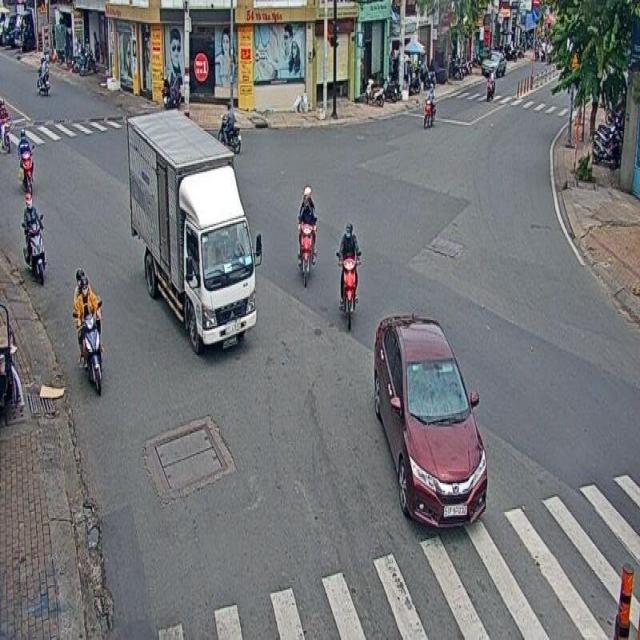car: (374, 314, 486, 523)
motorcycle: (72, 266, 102, 394), (336, 221, 362, 329), (20, 192, 45, 285), (296, 185, 318, 286), (218, 100, 242, 154), (17, 128, 34, 194), (423, 82, 436, 128)
truck: (127, 108, 257, 354)
